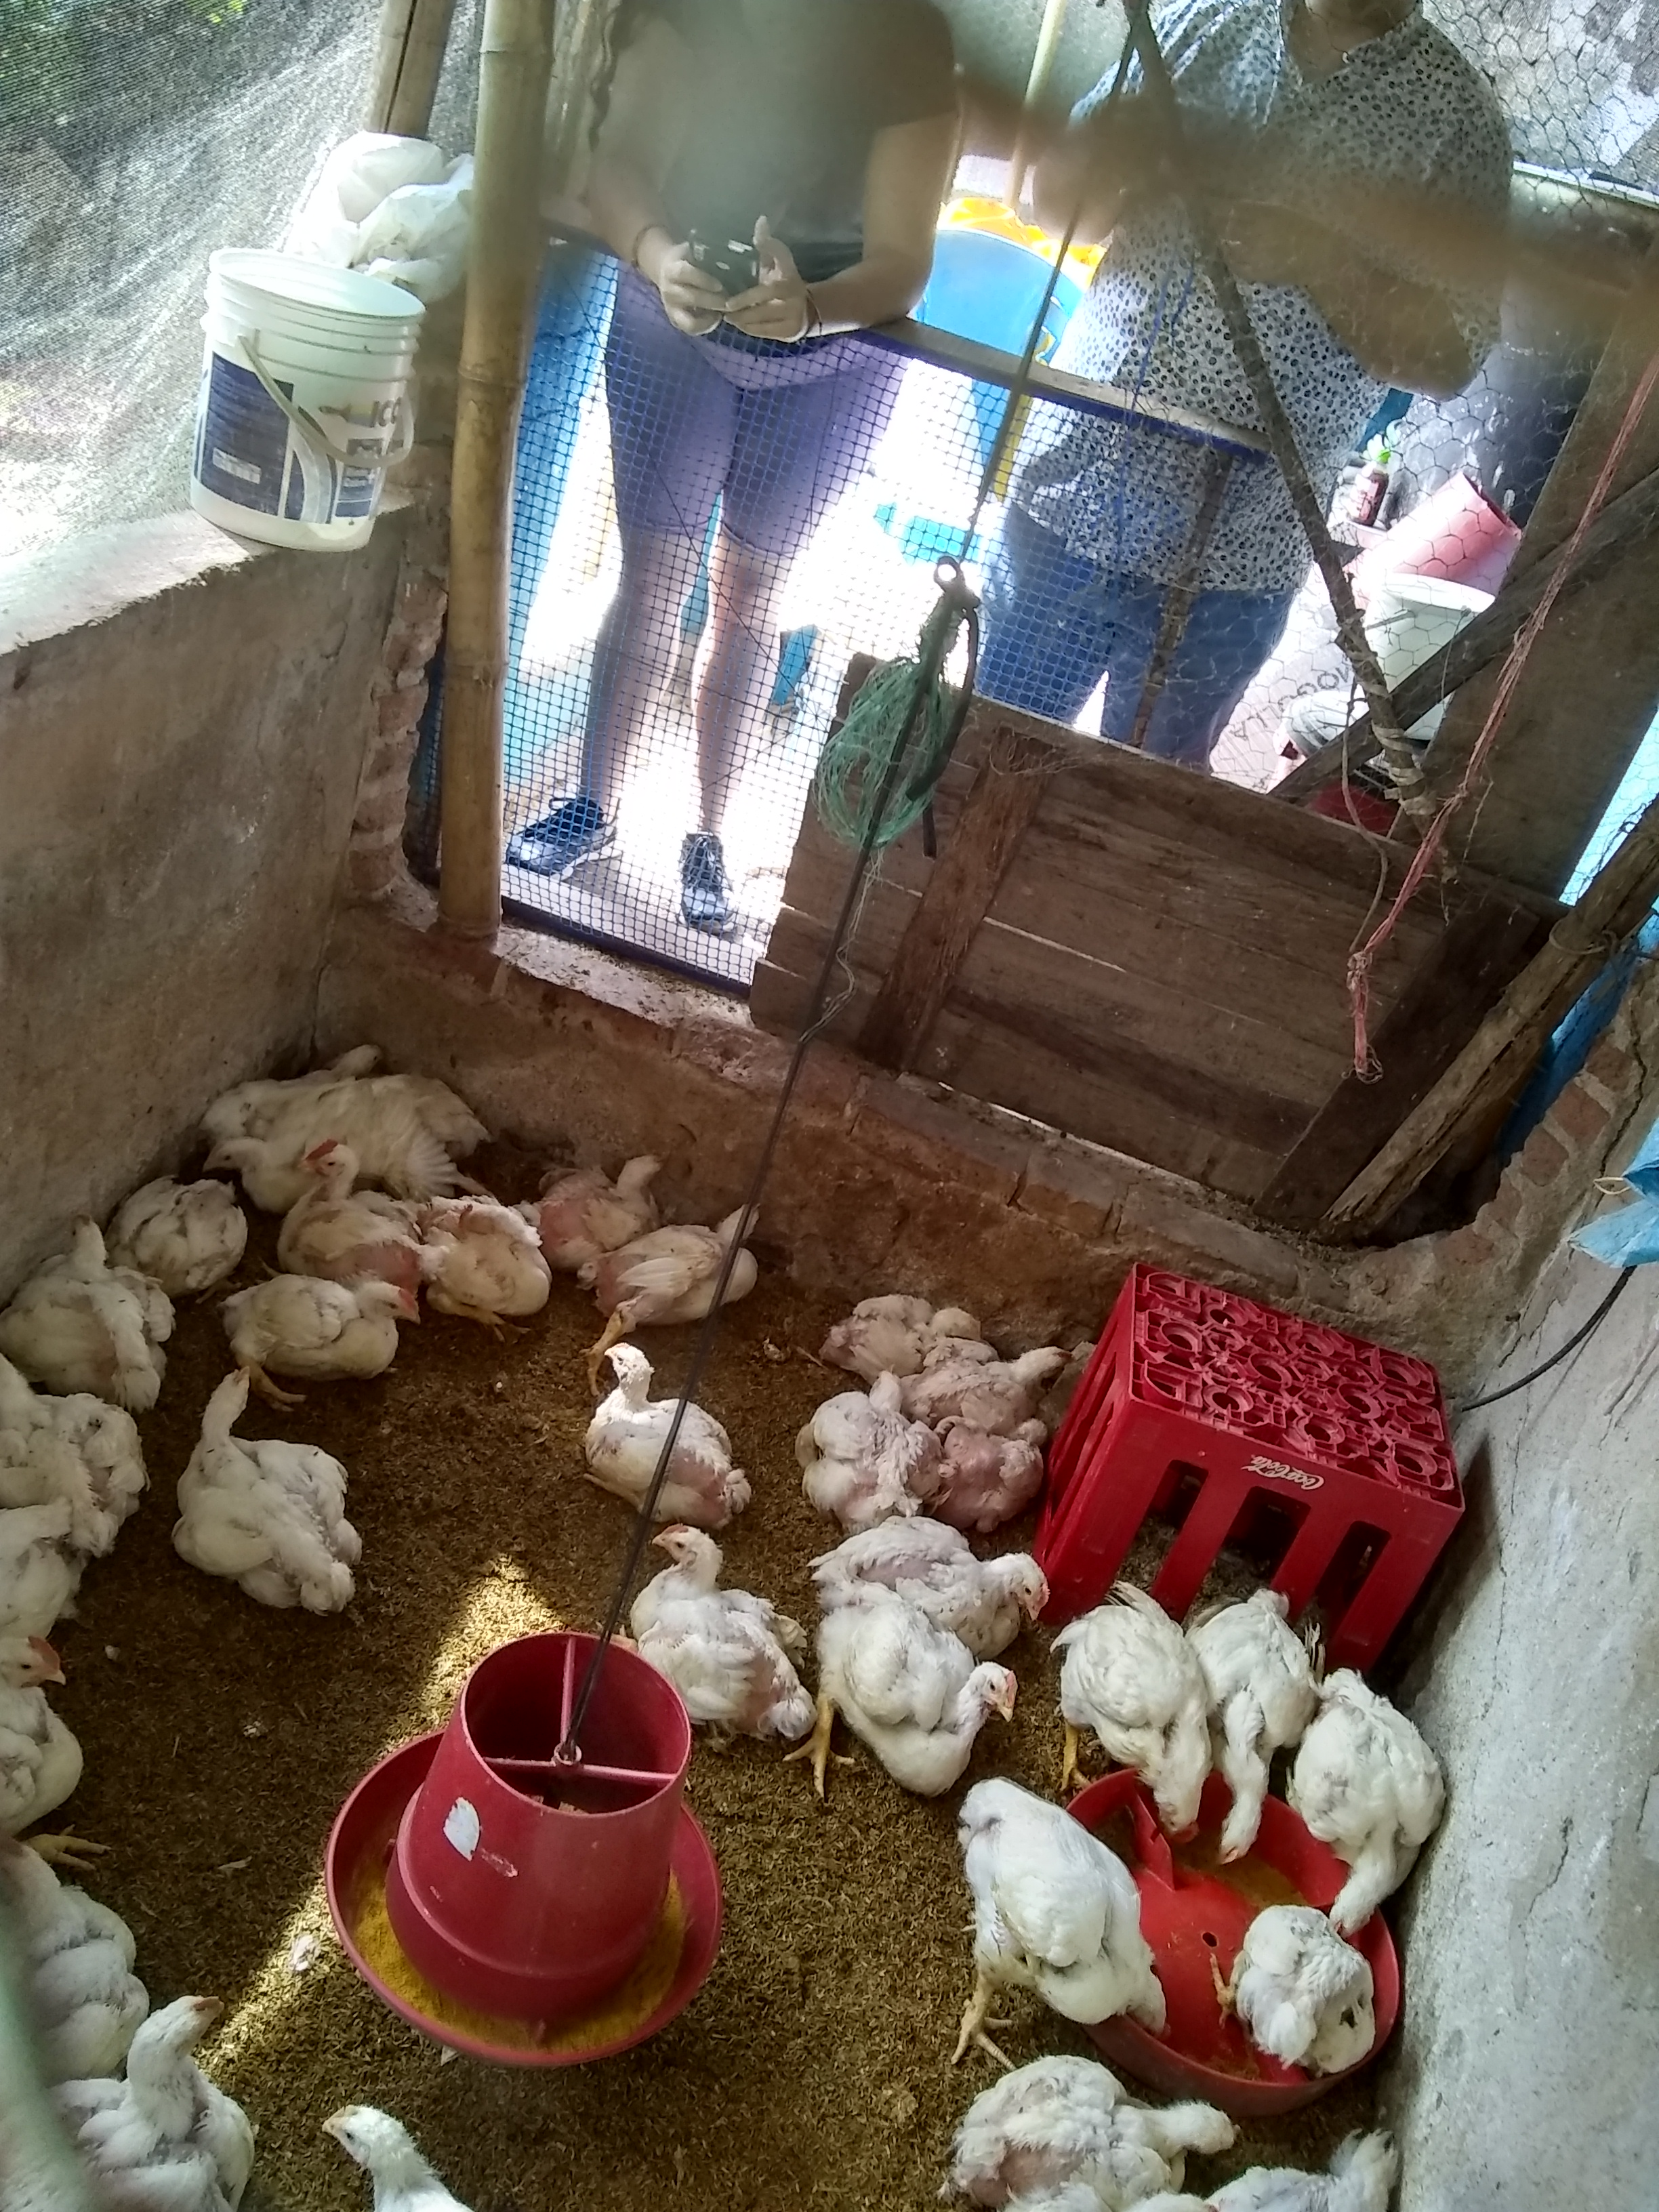Pollos: (962, 1778, 1175, 2036), (188, 1369, 350, 1580), (958, 2060, 1248, 2177), (1319, 1686, 1448, 1944), (650, 1527, 809, 1735), (1068, 1601, 1204, 1832), (89, 1989, 244, 2175), (1209, 1585, 1312, 1862), (12, 1207, 164, 1393), (831, 1648, 1026, 1784), (587, 1345, 739, 1508), (1237, 1916, 1384, 2074), (594, 1204, 772, 1322), (319, 2101, 491, 2212), (807, 1371, 931, 1515), (305, 1143, 420, 1280), (437, 1191, 552, 1318), (924, 1529, 1053, 1642), (0, 1623, 73, 1822), (279, 1275, 415, 1378), (929, 1345, 1080, 1425), (829, 1292, 974, 1367), (204, 1082, 301, 1191), (131, 1184, 239, 1278), (549, 1151, 667, 1226)
